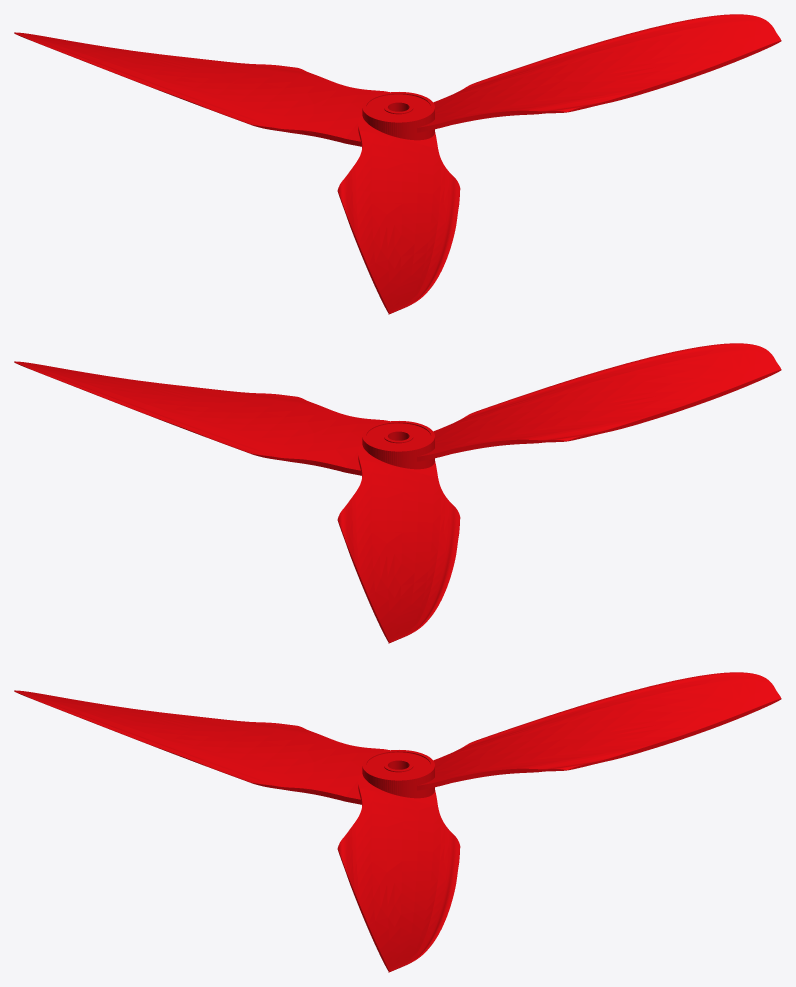
Rendered from propeller_red.dae.
3 views of the same model, one above another, from view 1: azimuth 30°, elevation 25°; view 2: azimuth 150°, elevation 25°; view 3: azimuth 270°, elevation 25° (orthographic).
Visible parts, largest first — view 1: 7040-3 Prop; view 2: 7040-3 Prop; view 3: 7040-3 Prop.
Part boxes in pixels (<box>): 7040-3 Prop: <box>14,14,781,314</box>; 7040-3 Prop: <box>14,343,781,643</box>; 7040-3 Prop: <box>14,672,781,972</box>.
Bounding box in the file's own units: 0.1386 × 0.1583 × 0.0084.
